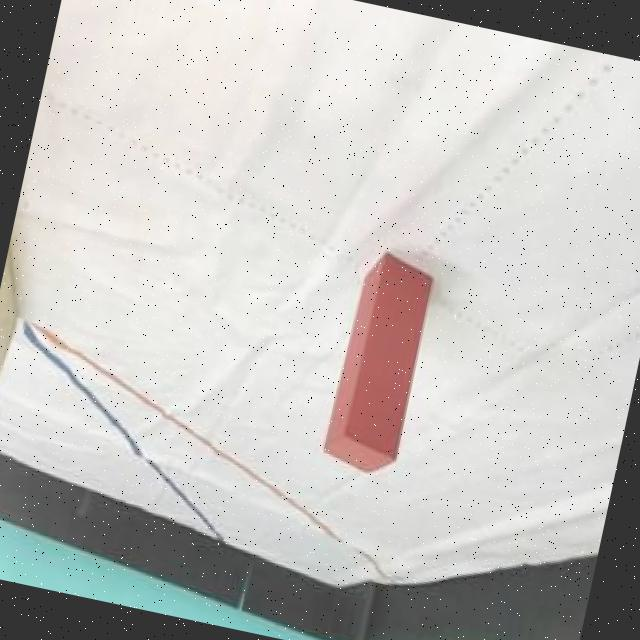redbox: (319, 246, 437, 480)
